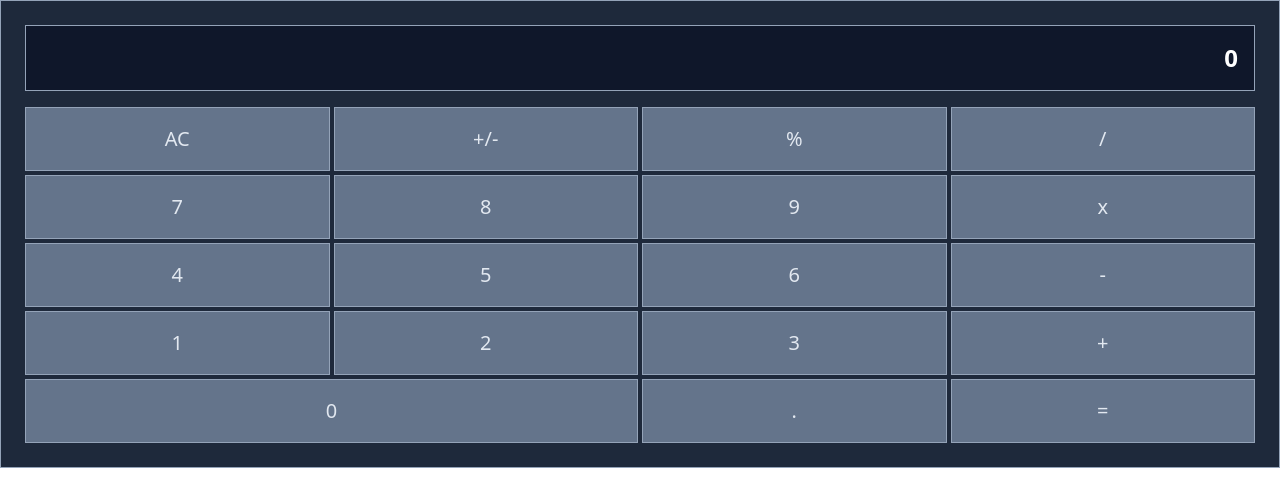
Scenario: App component › if number inputs updates the display
Click the button "1". click: x=177, y=343
box: x1=25 y1=311 x2=330 y2=375
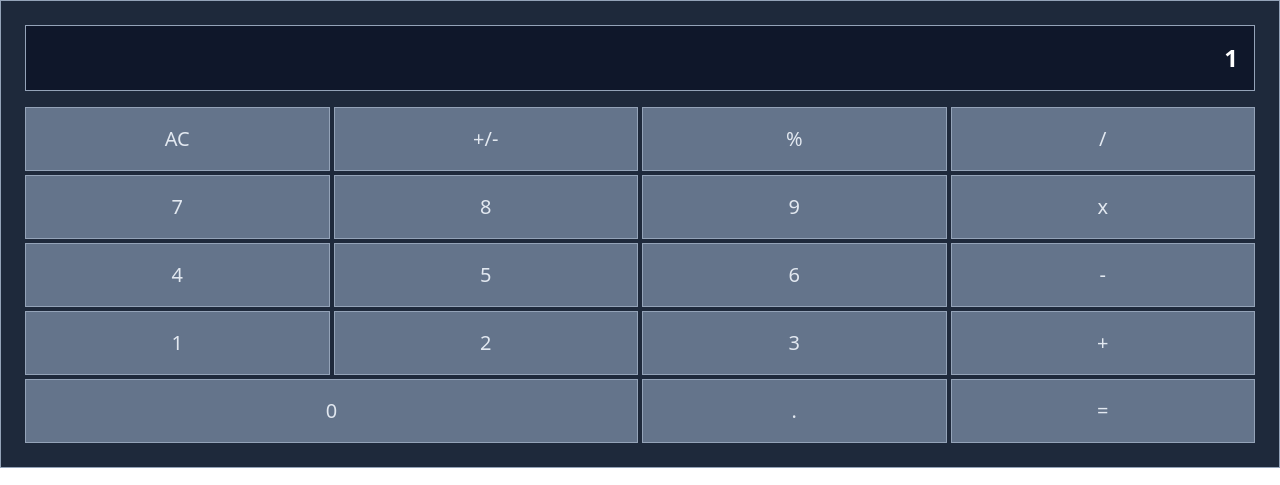
Click the button "5". click: x=486, y=275
box: x1=334 y1=243 x2=638 y2=307
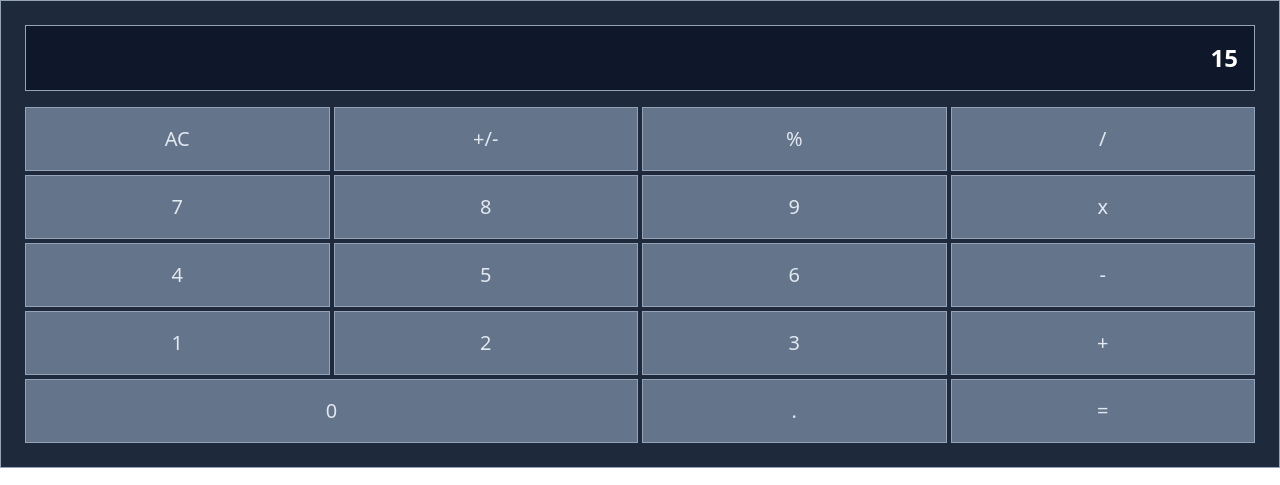
Click the button "0". click: x=332, y=411
box: x1=25 y1=379 x2=638 y2=443
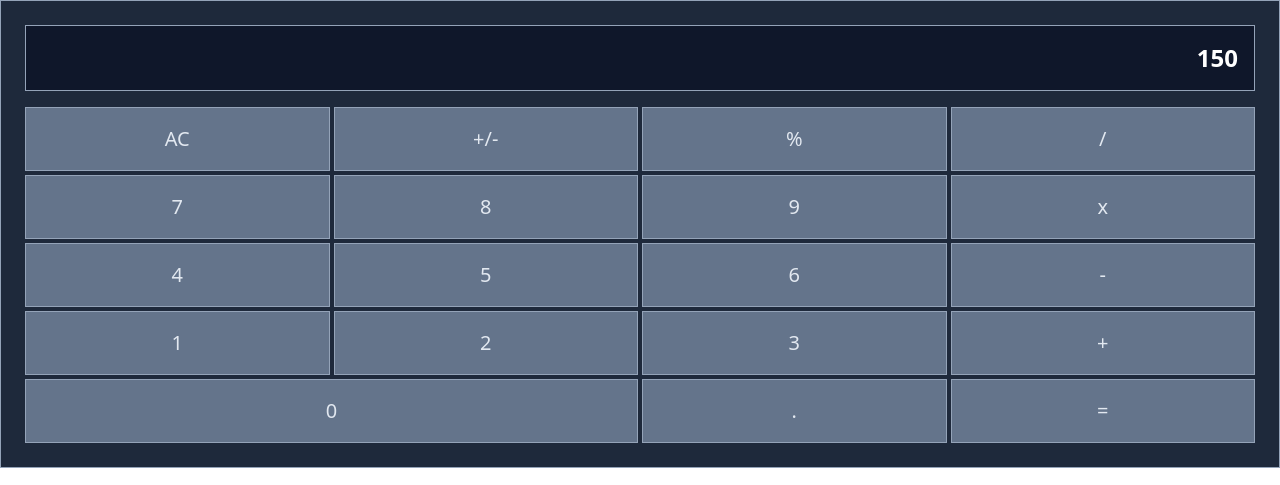
Click the button ".". click: x=794, y=411
box: x1=642 y1=379 x2=946 y2=443
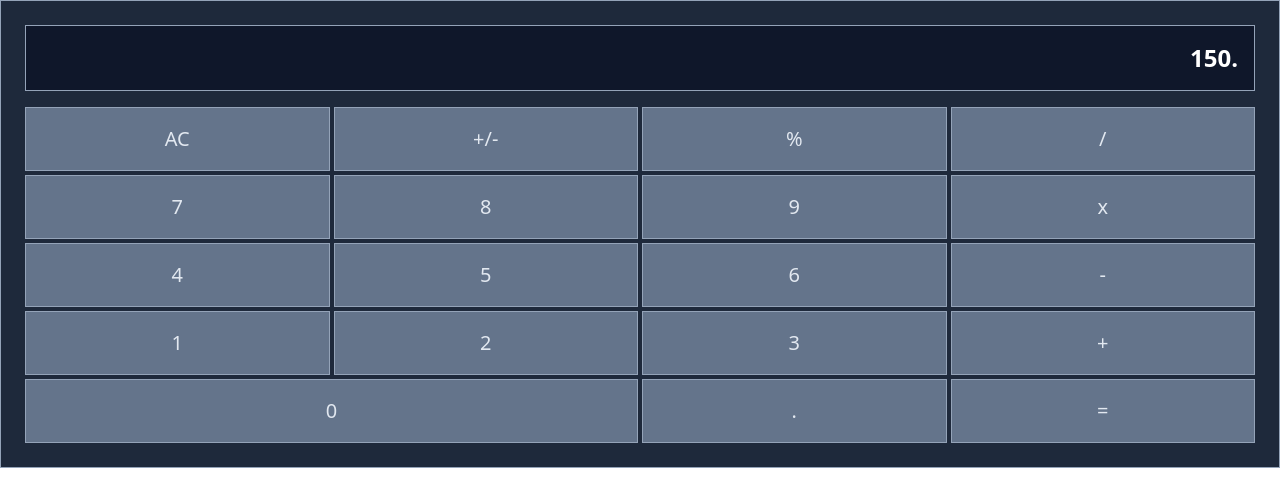
Click the button "9". click: x=794, y=207
box: x1=642 y1=175 x2=946 y2=239
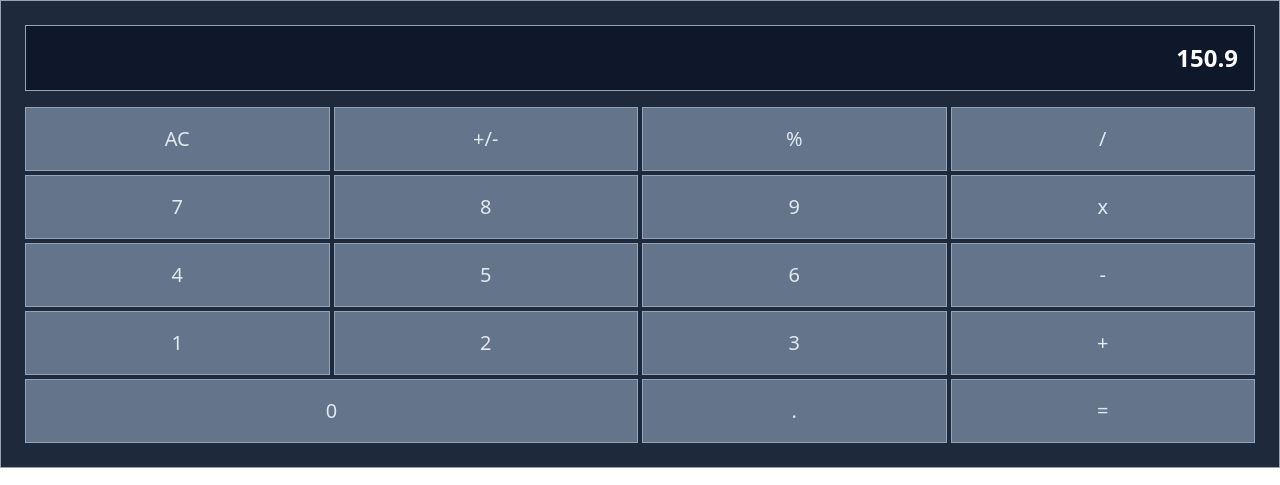
Click the button "1". click: x=177, y=343
box: x1=25 y1=311 x2=330 y2=375
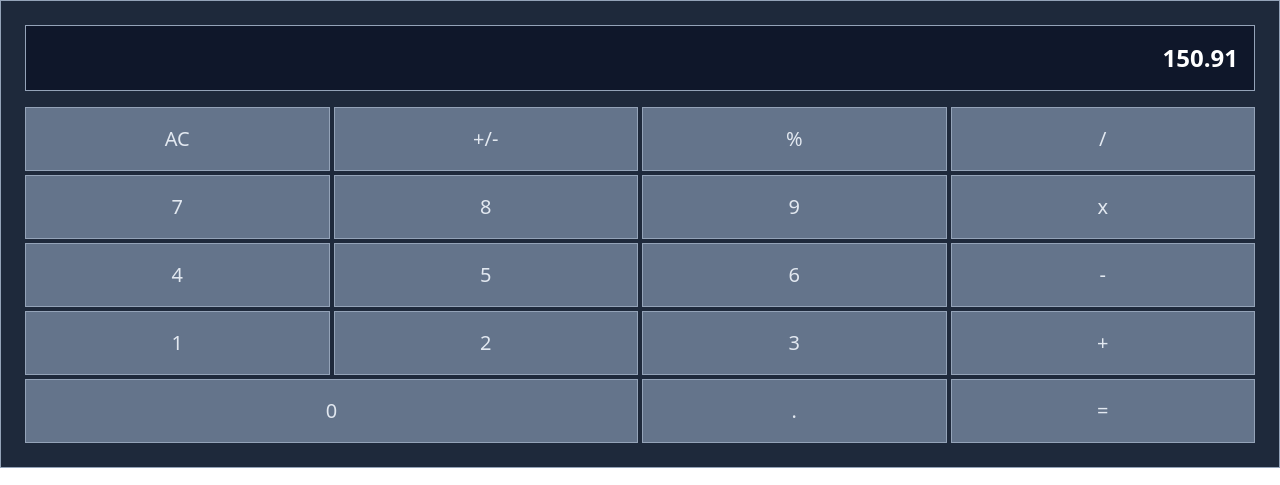
Expected: the text "150.91" is shown, x1=1162 y1=42 x2=1238 y2=74
Expected: the text with class "display__value" reads "150.91", x1=1162 y1=41 x2=1238 y2=74
